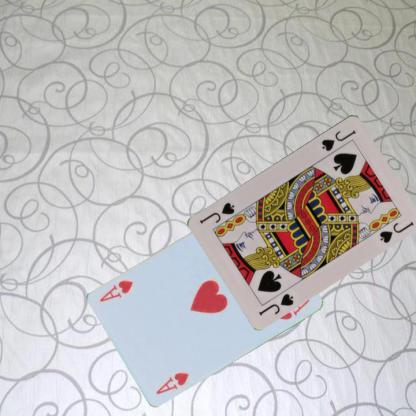Ah: (153, 369, 190, 395)
Js: (318, 127, 359, 153), (256, 290, 295, 317)
